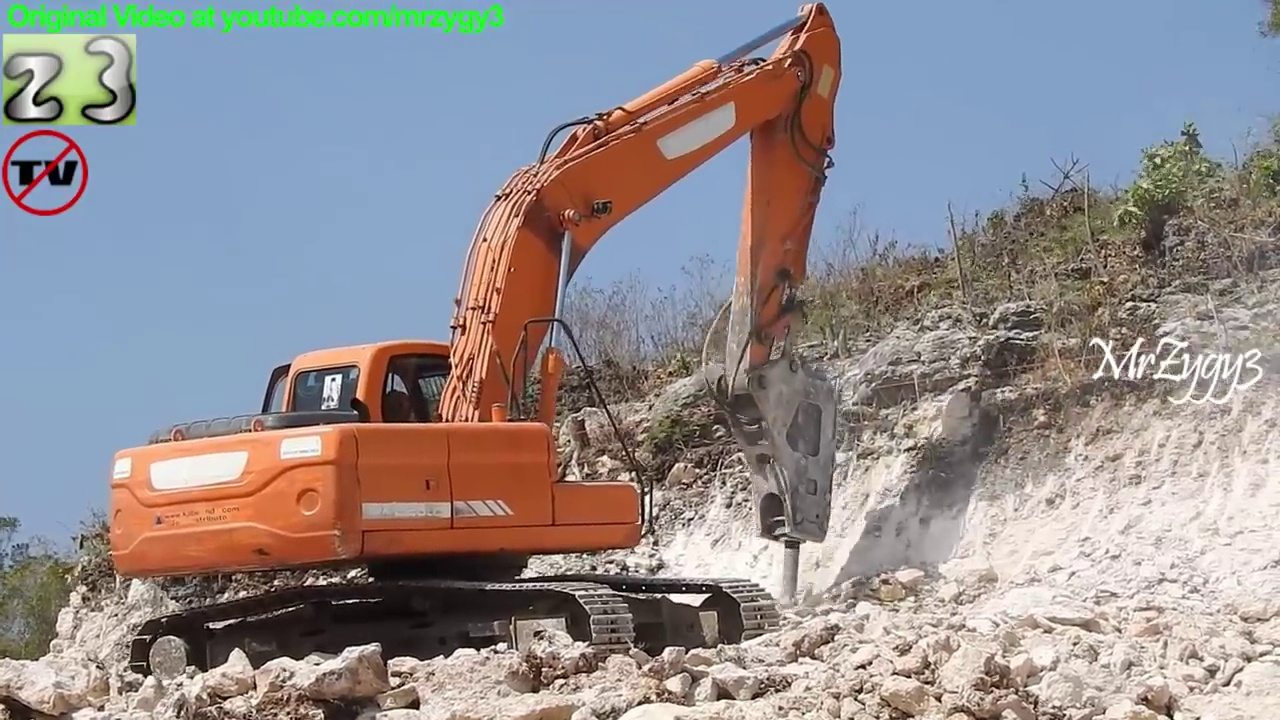excavator breaker: (103, 1, 855, 695)
